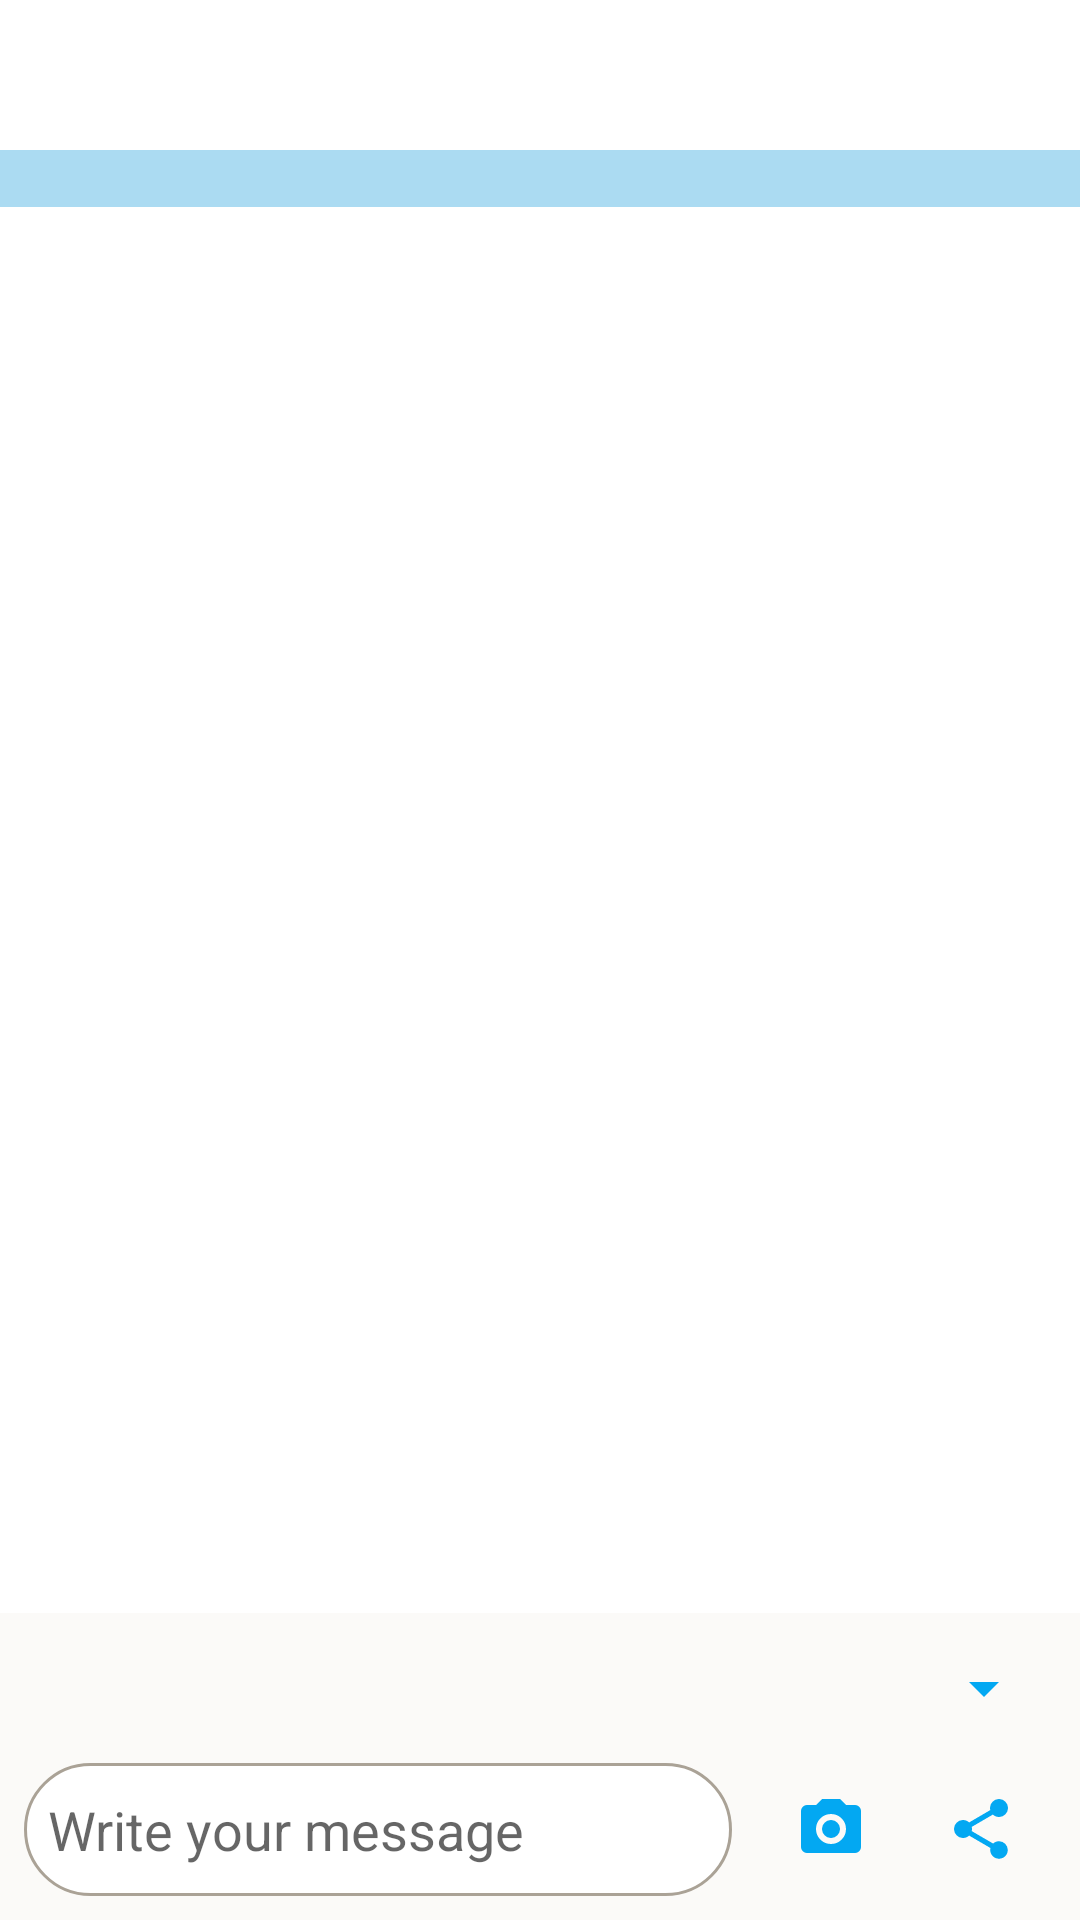

Where to tap for icons on this 1080*1920 app screen, as [x,y]:
camera: [831,1826]
share variant: [981,1829]
